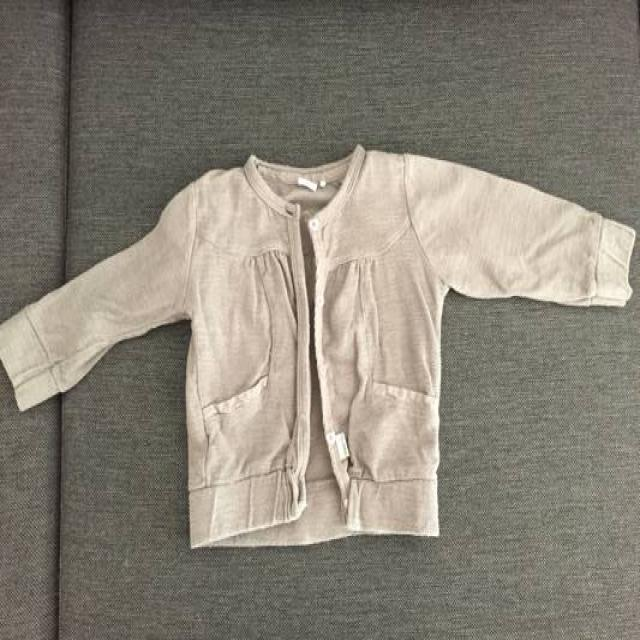Clothes -Biodegradable-: (0, 150, 633, 551)
